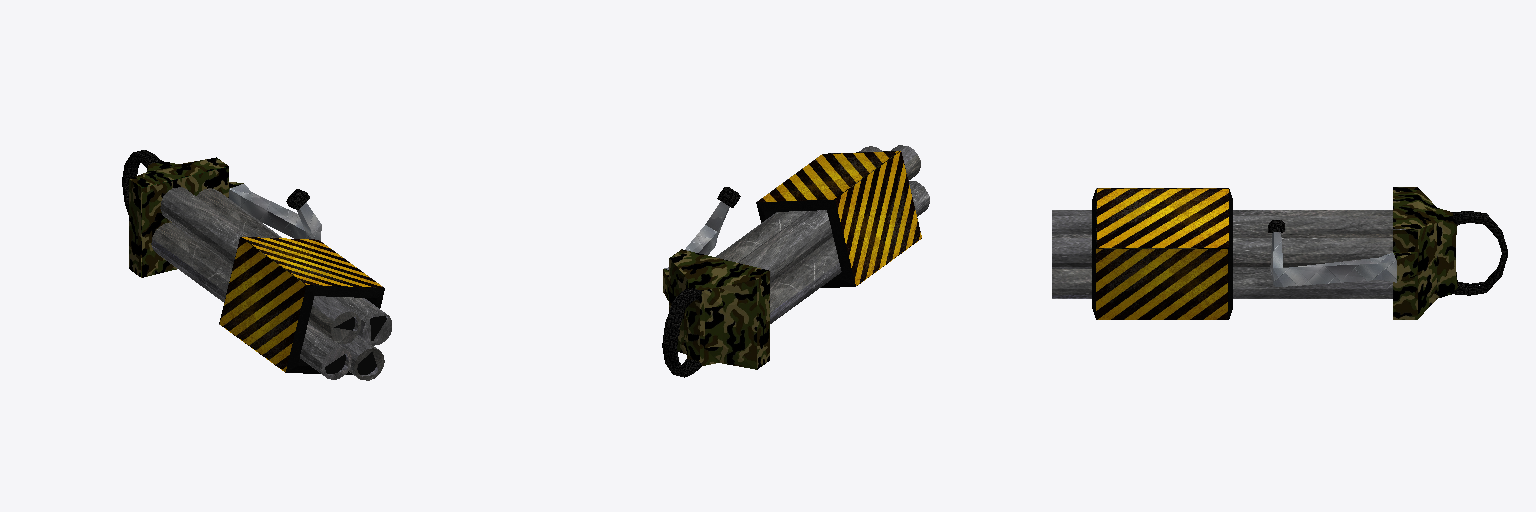
3 renders of one model, left to right at view 1: azimuth 30°, elevation 25°; view 2: azimuth 150°, elevation 25°; view 3: azimuth 270°, elevation 25°, orthographic.
Parts seen in each view (by area): view 1: Cylinder.001, Cylinder.000_Cylinder.004, Cube; view 2: Cube, Cylinder.000_Cylinder.004, Cylinder.001; view 3: Cylinder.000_Cylinder.004, Cylinder.001, Cube.
Part boxes in pixels (left/top/right/bottom): Cylinder.001: left=151, top=187, right=391, bottom=380; Cylinder.000_Cylinder.004: left=219, top=237, right=384, bottom=374; Cube: left=122, top=150, right=321, bottom=277; Cube: left=662, top=187, right=769, bottom=377; Cylinder.000_Cylinder.004: left=756, top=151, right=921, bottom=287; Cylinder.001: left=690, top=145, right=929, bottom=323; Cylinder.000_Cylinder.004: left=1092, top=188, right=1232, bottom=319; Cylinder.001: left=1052, top=210, right=1405, bottom=298; Cube: left=1268, top=187, right=1507, bottom=319.
Bounding box in the file's own units: 1.63 × 1.41 × 5.15.
Materials: 3 (1 with a texture image).